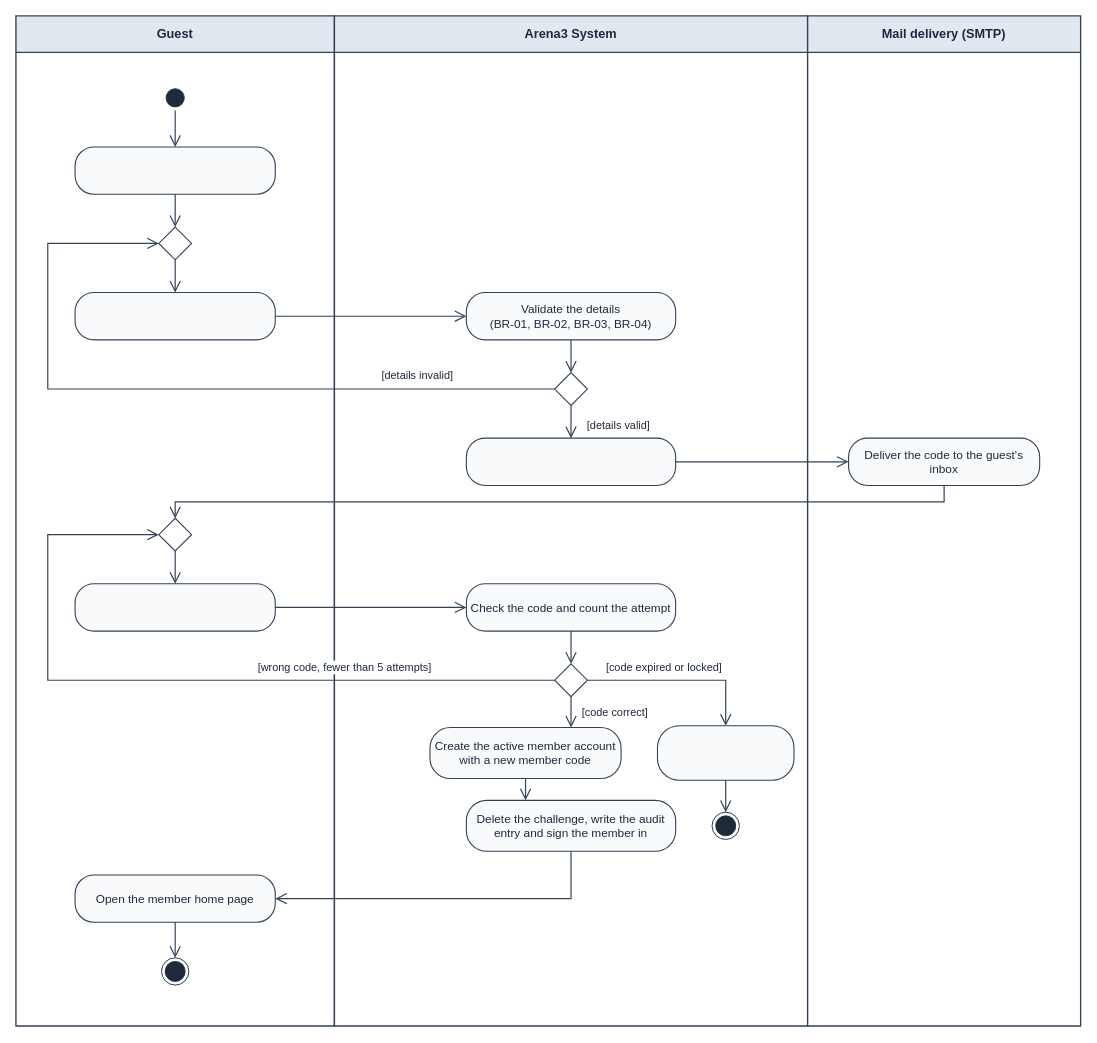
This 1097x1043 diagram has some shape labels left out. The centre of each missing label's shape, as x and y in pixels:
"Enter name, phone, email, password and consent" belongs at [174,316].
"Open the sign-up page" belongs at [174,170].
"Read the email and enter the code" belongs at [174,607].
"Refuse the code: expired, or locked for 15 minutes" belongs at [725,752].
"Store a one-time code that expires in 5 minutes" belongs at [570,461].
